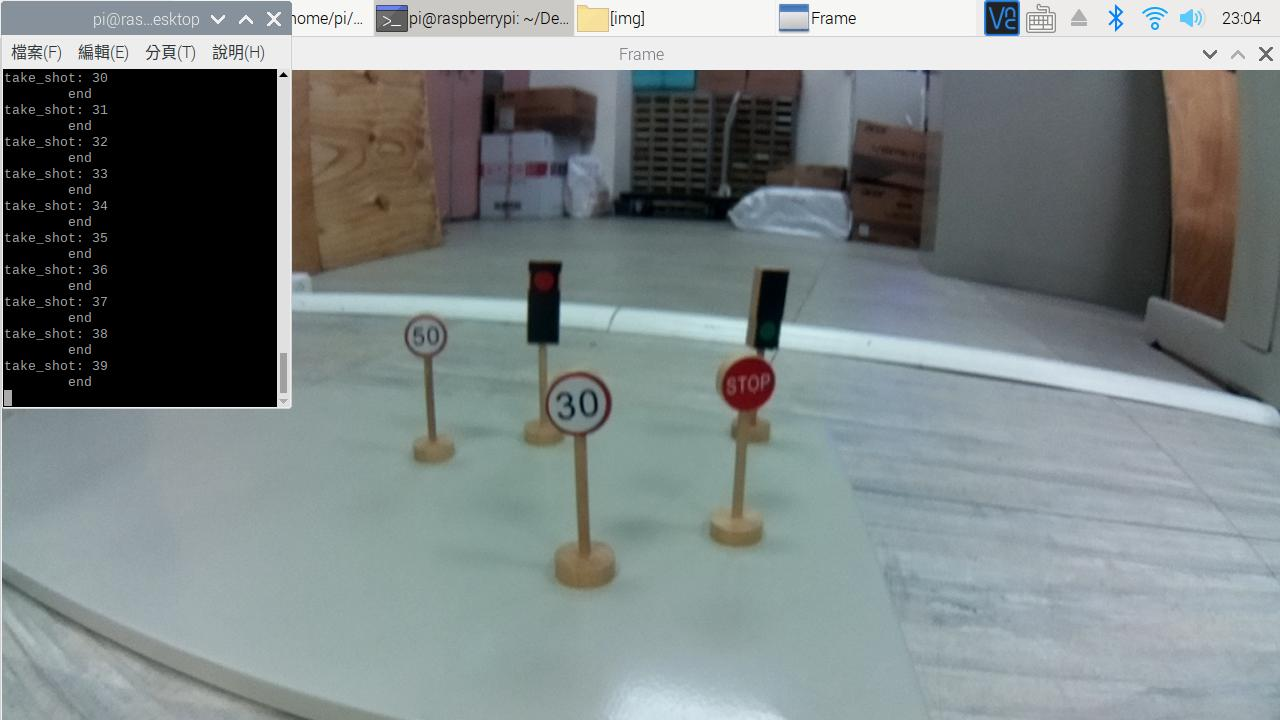Green: (753, 270, 784, 348)
Red: (527, 260, 562, 344)
Speed30: (542, 379, 611, 435)
Speed50: (403, 320, 448, 356)
Stop: (720, 356, 780, 413)
